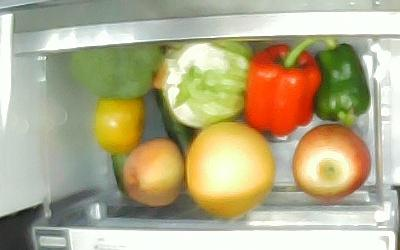apple: (291, 124, 372, 200)
broccoli: (68, 42, 164, 100)
cucumber: (146, 46, 198, 169)
grapefruit: (186, 120, 276, 218)
lettuce: (152, 39, 253, 128)
paprika: (243, 38, 320, 138), (312, 43, 371, 129)
peach: (122, 138, 184, 208)
persimmon: (93, 95, 145, 154)
